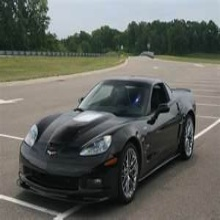no damage: (17, 77, 198, 202)
